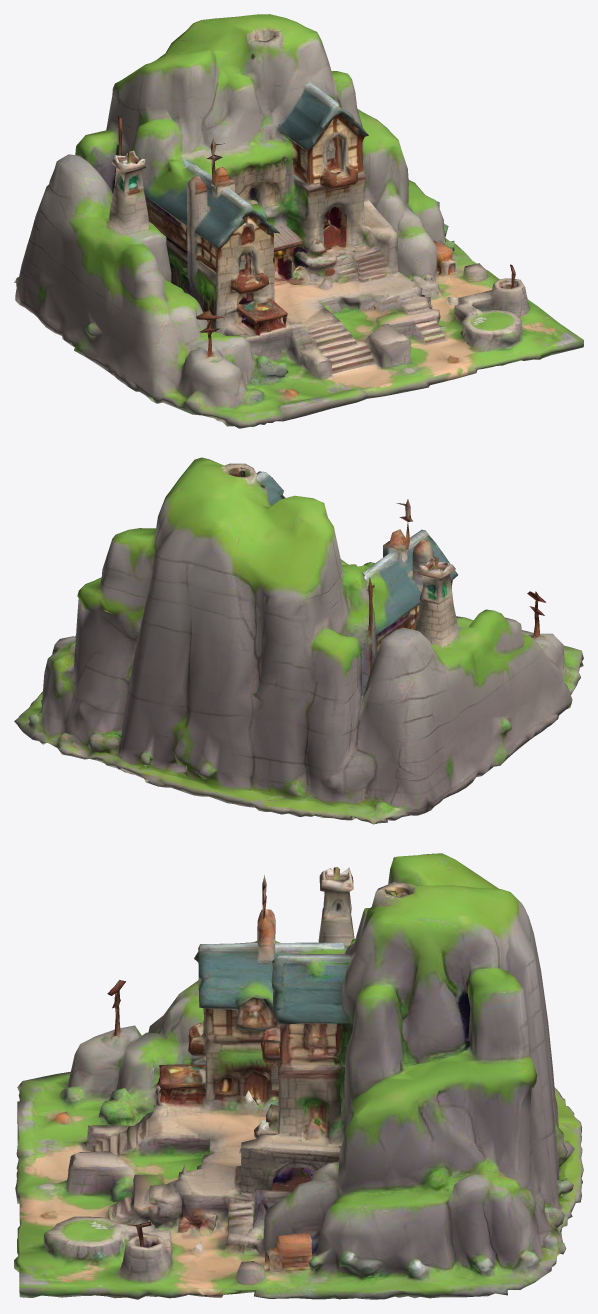
File: housing.glb
3 renders of one model, top to bottom at view 1: azimuth 30°, elevation 25°; view 2: azimuth 150°, elevation 25°; view 3: azimuth 270°, elevation 25°, orthographic. The views are drawn at different scales.
Visible parts, largest first — view 1: Mesh_0; view 2: Mesh_0; view 3: Mesh_0.
Boxes of the visible parts, x1,y1,x2,y2 form: Mesh_0: (14,14,583,428); Mesh_0: (14,457,583,824); Mesh_0: (14,853,583,1299).
Bounding box in the file's own units: 1.89 × 1.14 × 1.9.
1 material, 1 textured.
